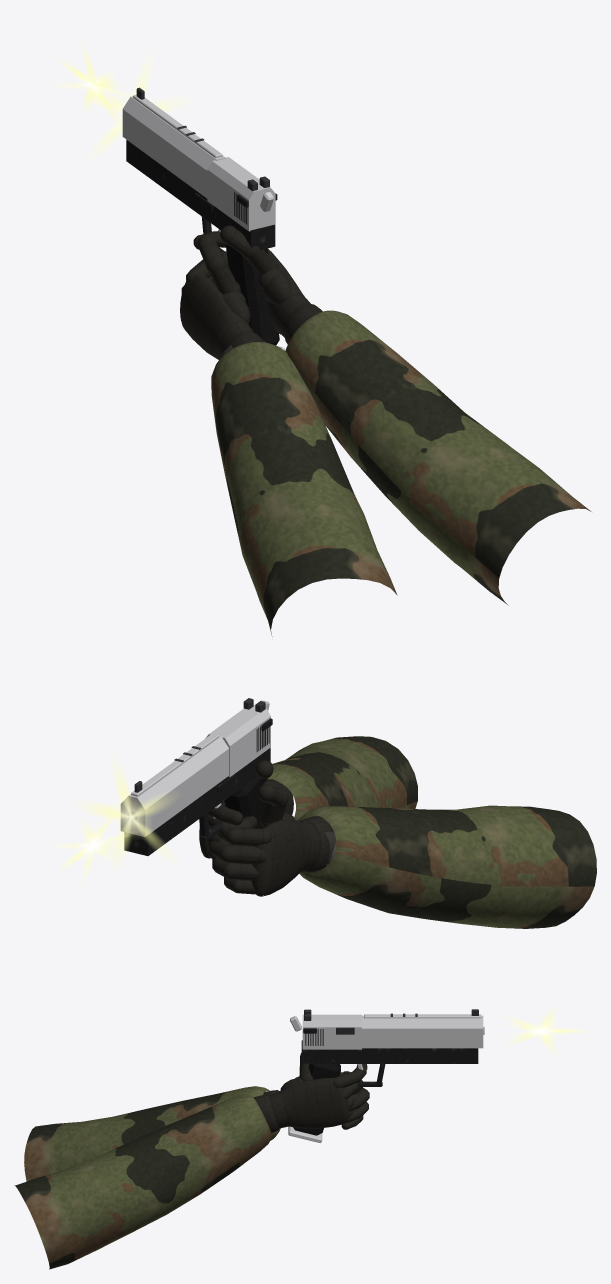
The model's file is eagle.glb.
The picture shows the model from 3 angles, top to bottom: view 1: azimuth 30°, elevation 25°; view 2: azimuth 150°, elevation 25°; view 3: azimuth 270°, elevation 25°; orthographic projection. The views are drawn at different scales.
Visible parts, largest first — view 1: gun, flash; view 2: gun, flash; view 3: gun, flash.
Part boxes in pixels (x1,y1,x2,y2): gun: (122, 87, 591, 636); flash: (57, 50, 181, 153); gun: (120, 698, 596, 928); flash: (57, 766, 169, 879); gun: (14, 1009, 484, 1269); flash: (509, 1010, 585, 1051).
Size of the model in its own units: 0.4211 by 0.4779 by 0.9432.
10 materials, 5 textured.
